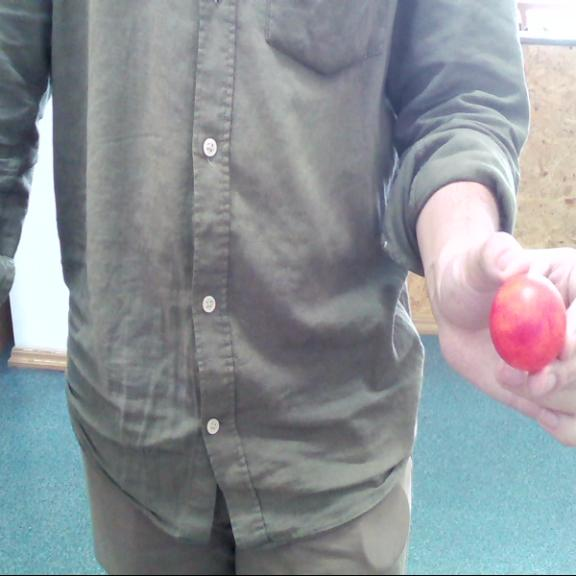ball: (490, 270, 568, 371)
